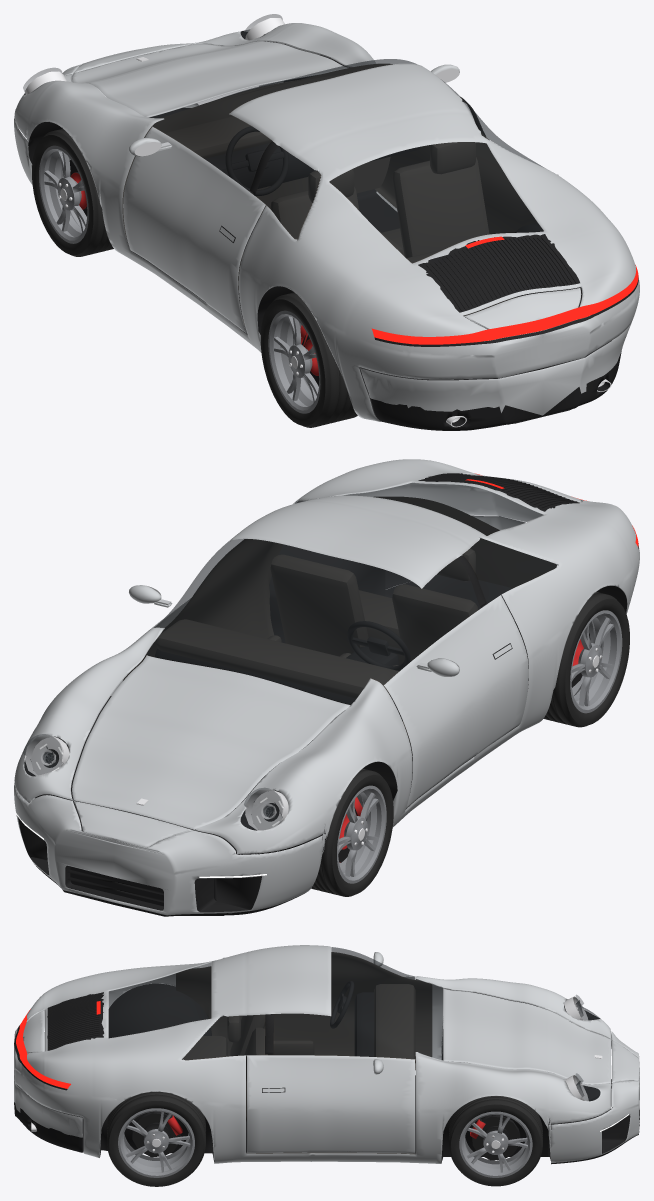
Rendered from car_lod1.glb.
3 renders of one model, top to bottom at view 1: azimuth 30°, elevation 25°; view 2: azimuth 150°, elevation 25°; view 3: azimuth 270°, elevation 25°, orthographic. The views are drawn at different scales.
Visible parts, largest first — view 1: body, glass, interior, door_l, bumper_rear, hood, wheel_rl, wheel_fl, lights_rear, spoiler, lights_front, bumper_front; view 2: body, glass, interior, hood, bumper_front, door_l, wheel_rl, wheel_fl, lights_front, bumper_rear; view 3: body, glass, door_r, interior, hood, wheel_rr, wheel_fr, bumper_front, bumper_rear, lights_front, brake_rr, brake_fr (+2 smaller).
Boxes of the visible parts, x1,y1,x2,y2 form: body: [14, 23, 639, 430]; glass: [149, 59, 557, 262]; interior: [122, 63, 537, 324]; door_l: [123, 126, 265, 334]; bumper_rear: [360, 322, 631, 430]; hood: [72, 41, 347, 117]; wheel_rl: [260, 292, 357, 427]; wheel_fl: [32, 128, 113, 256]; lights_rear: [371, 236, 638, 346]; spoiler: [464, 288, 581, 329]; lights_front: [23, 14, 284, 94]; bumper_front: [14, 41, 283, 184]; body: [14, 459, 639, 854]; glass: [147, 483, 558, 703]; interior: [123, 496, 556, 748]; hood: [72, 655, 350, 829]; bumper_front: [14, 783, 325, 916]; door_l: [384, 595, 528, 808]; wheel_rl: [543, 592, 629, 727]; wheel_fl: [311, 768, 393, 896]; lights_front: [16, 734, 288, 902]; bumper_rear: [385, 515, 558, 589]; body: [14, 945, 639, 1163]; glass: [109, 947, 442, 1059]; door_r: [246, 1055, 415, 1153]; interior: [176, 952, 432, 1154]; hood: [443, 988, 611, 1084]; wheel_rr: [107, 1091, 206, 1186]; wheel_fr: [449, 1096, 542, 1186]; bumper_front: [548, 1021, 639, 1164]; bumper_rear: [14, 1032, 82, 1152]; lights_front: [564, 995, 628, 1131]; brake_rr: [132, 1111, 182, 1157]; brake_fr: [470, 1115, 520, 1160].
Size of what is drawn, in the model's own units: 2.01 by 1.3 by 4.52.
